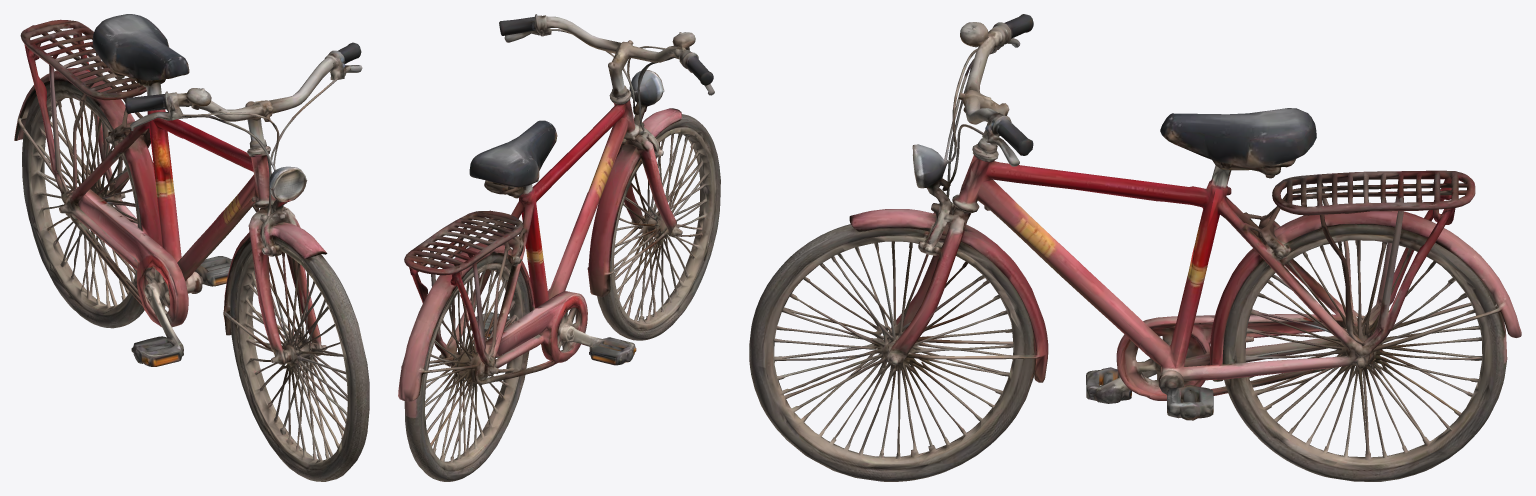
The picture shows the model from 3 angles, left to right: view 1: azimuth 30°, elevation 25°; view 2: azimuth 150°, elevation 25°; view 3: azimuth 270°, elevation 25°; orthographic projection. The views are drawn at different scales.
Parts seen in each view (by area): view 1: node_0; view 2: node_0; view 3: node_0.
Boxes of the visible parts, <box> form: node_0: <box>14,14,369,481</box>; node_0: <box>398,14,720,481</box>; node_0: <box>749,14,1521,481</box>.
Size of the model in its own units: 0.4545 by 0.689 by 1.15.
1 material, 1 textured.
